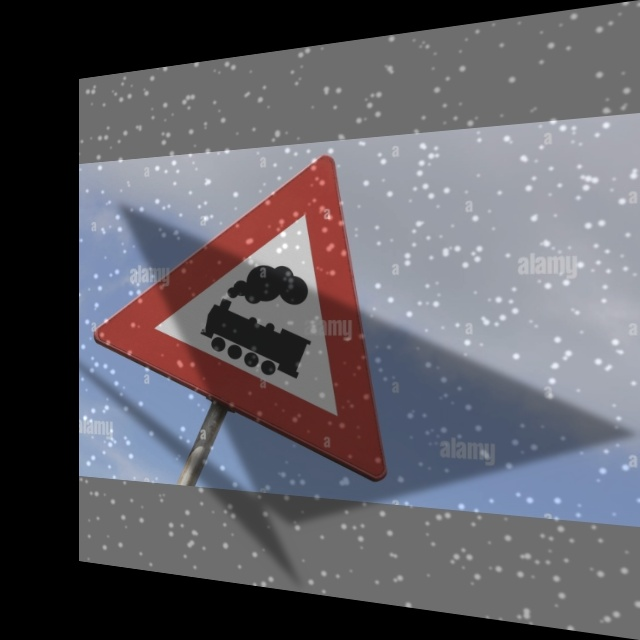Unguarded_Level_Crossing: (119, 153, 387, 439)
